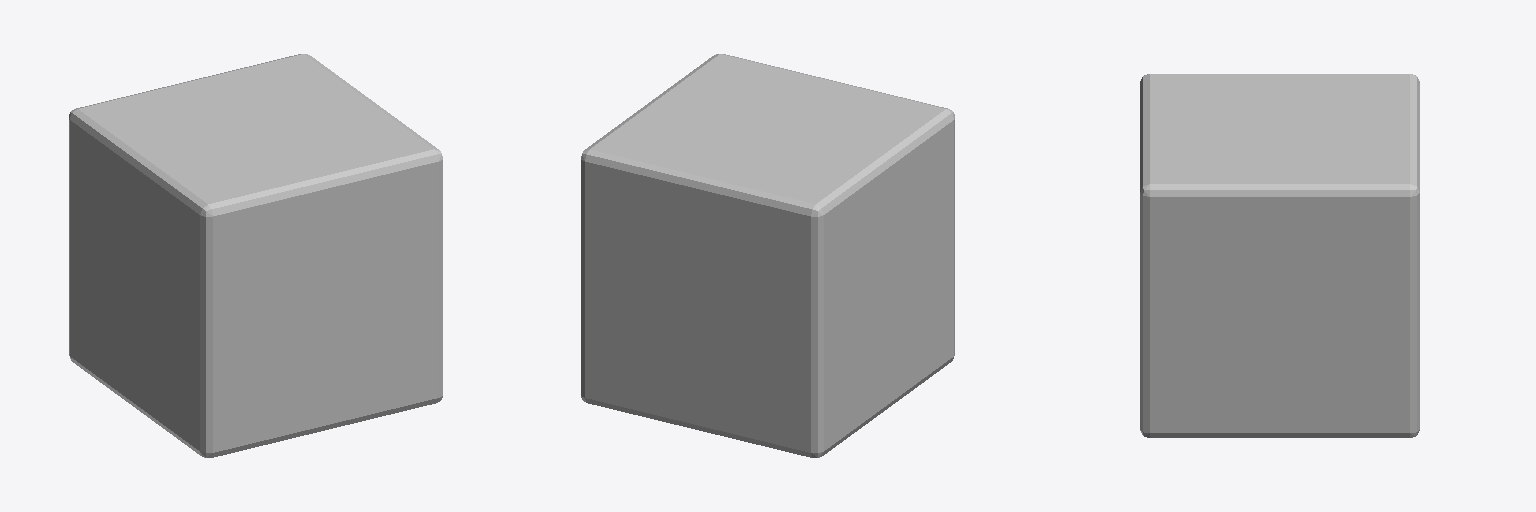
Rendered from Dall1.obj.
3 views of the same model, side by side, from view 1: azimuth 30°, elevation 25°; view 2: azimuth 150°, elevation 25°; view 3: azimuth 270°, elevation 25° (orthographic).
Visible parts, largest first — view 1: Cube.002; view 2: Cube.002; view 3: Cube.002.
Boxes of the visible parts, box(x1,y1,x2,y2) form: Cube.002: box(69, 54, 442, 457); Cube.002: box(581, 54, 954, 457); Cube.002: box(1140, 74, 1419, 437).
Bounding box in the file's own units: 2 × 2 × 2.